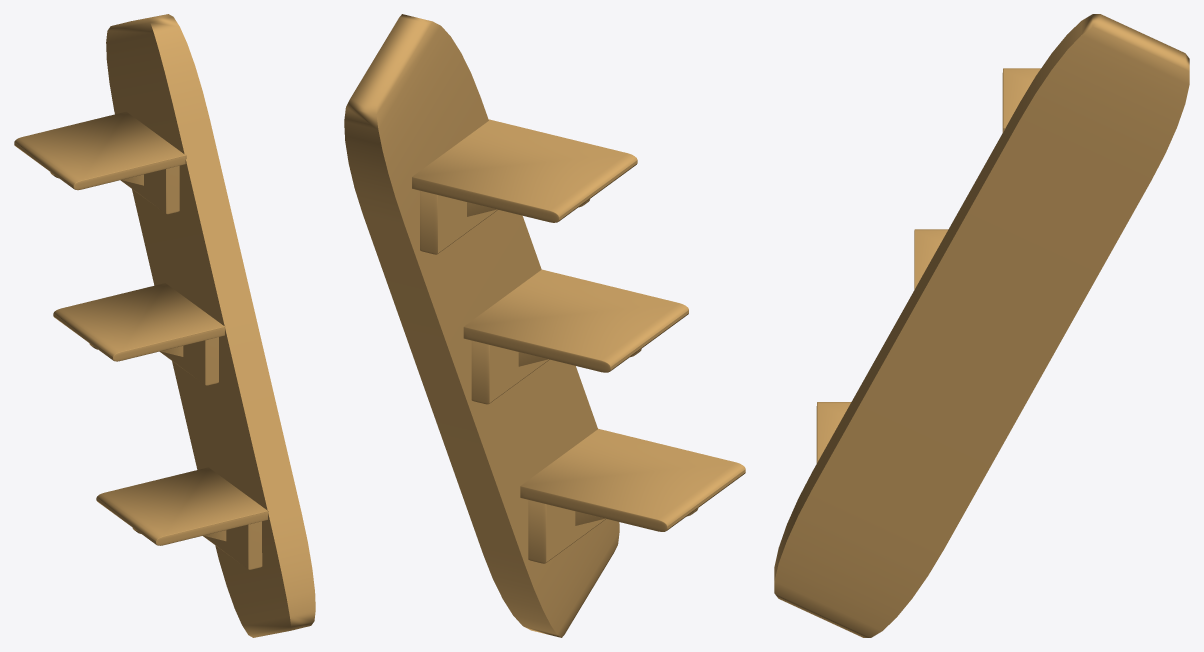
File: duality_stairs_up_left.fbx
The picture shows the model from 3 angles, left to right: view 1: azimuth 30°, elevation 25°; view 2: azimuth 150°, elevation 25°; view 3: azimuth 270°, elevation 25°; orthographic projection. The views are drawn at different scales.
Visible parts, largest first — view 1: stair; view 2: stair; view 3: stair.
Part boxes in pixels (left/top/right/bottom): stair: left=14, top=14, right=315, bottom=637; stair: left=344, top=14, right=745, bottom=637; stair: left=774, top=14, right=1189, bottom=637.
Bounding box in the file's own units: 254 × 916 × 563.
